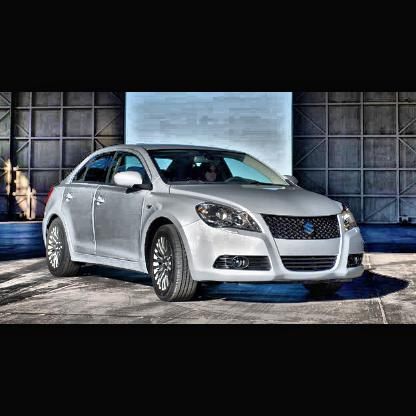Suzuki Kizashi Sedan 2012: (43, 143, 367, 306)
